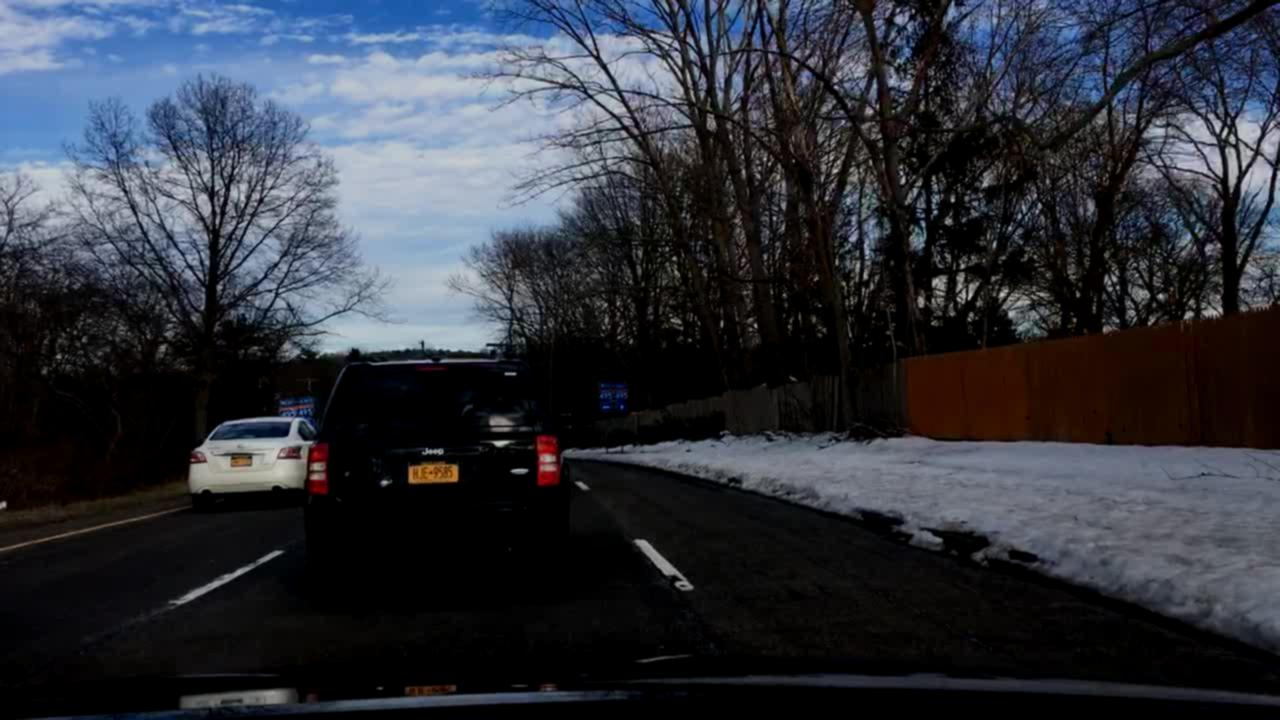jeep: (418, 443, 448, 460)
